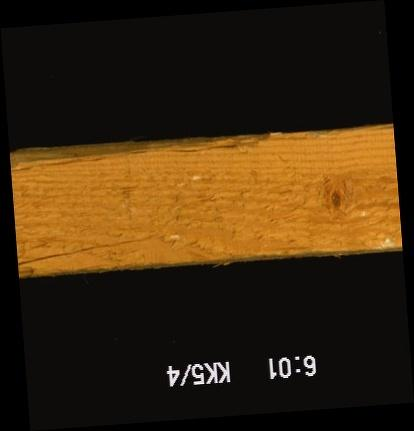small_knot: (323, 183, 346, 216)
split: (17, 236, 159, 262)
wave: (10, 141, 275, 165)
